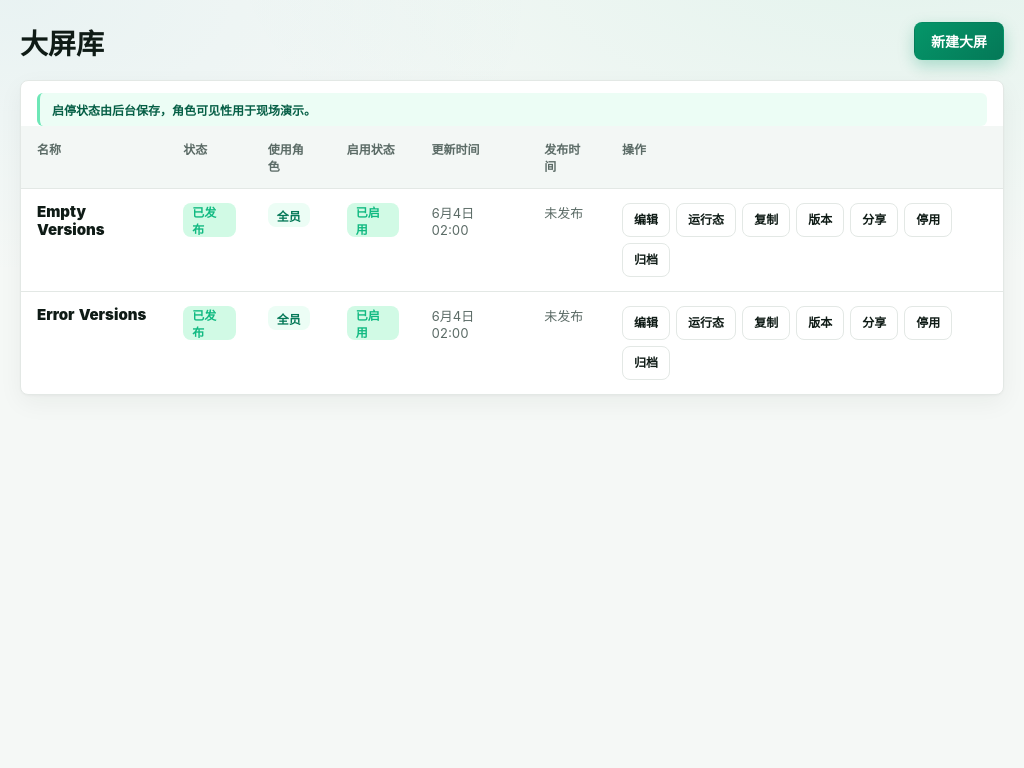
Scenario: DashboardList › shows version empty and error states
Click the button "版本" in the row of "Empty Versions". click: (820, 220)
box: left=796, top=203, right=844, bottom=237
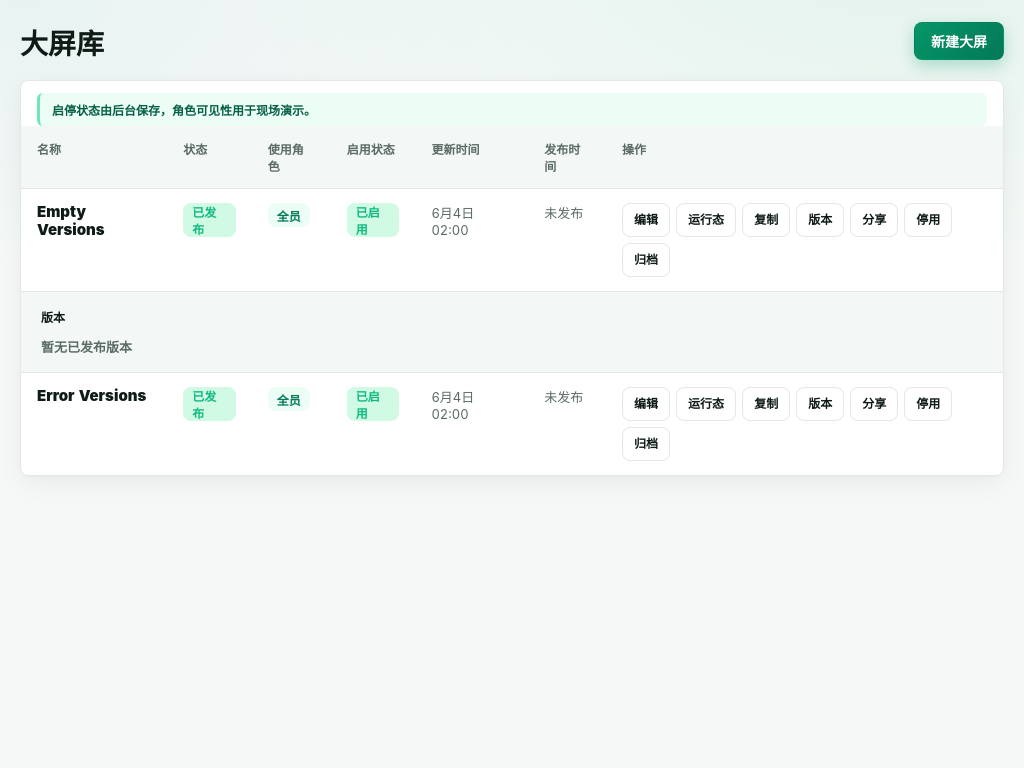
Click the button "版本" in the row of "Error Versions". click: (820, 404)
box: left=796, top=387, right=844, bottom=421
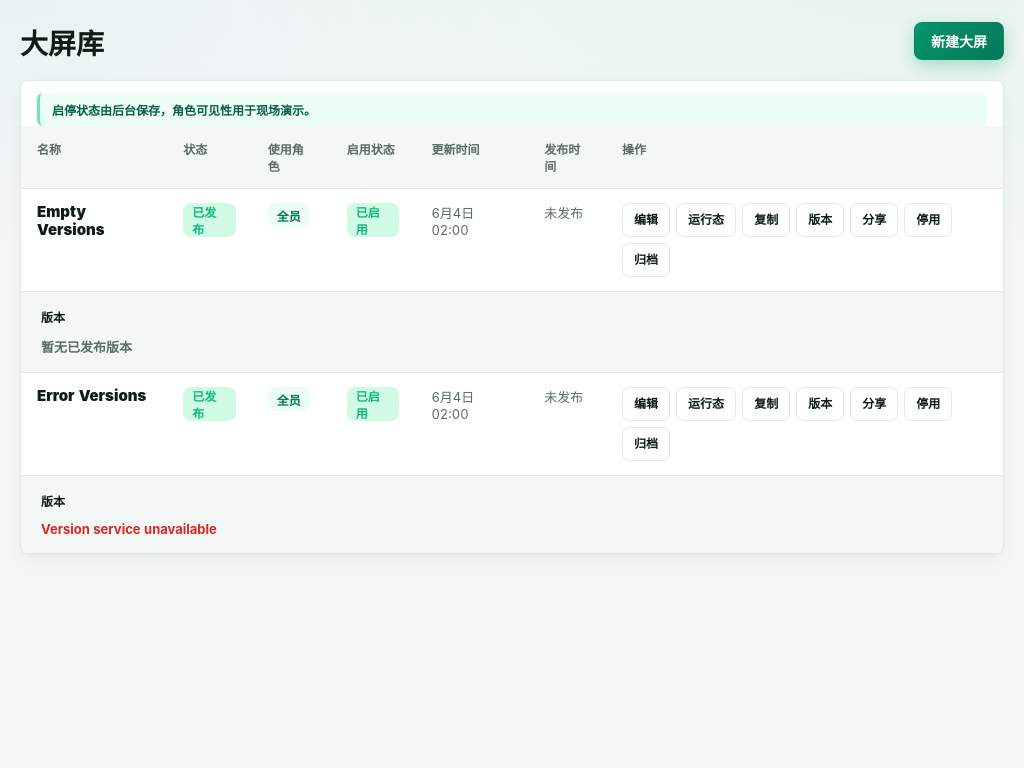
Check: the text "暂无已发布版本" is shown, box left=41, top=339, right=132, bottom=355
Check: the text "Version service unavailable" is shown, box left=41, top=521, right=217, bottom=537
